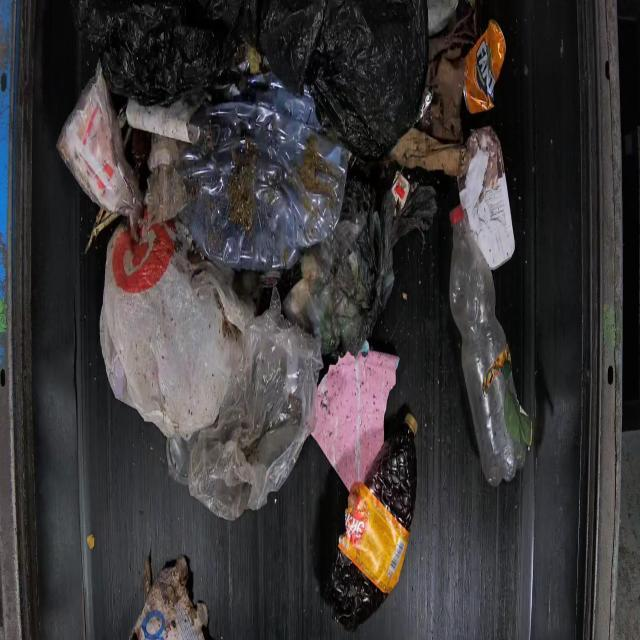bottles: (328, 404, 418, 631)
